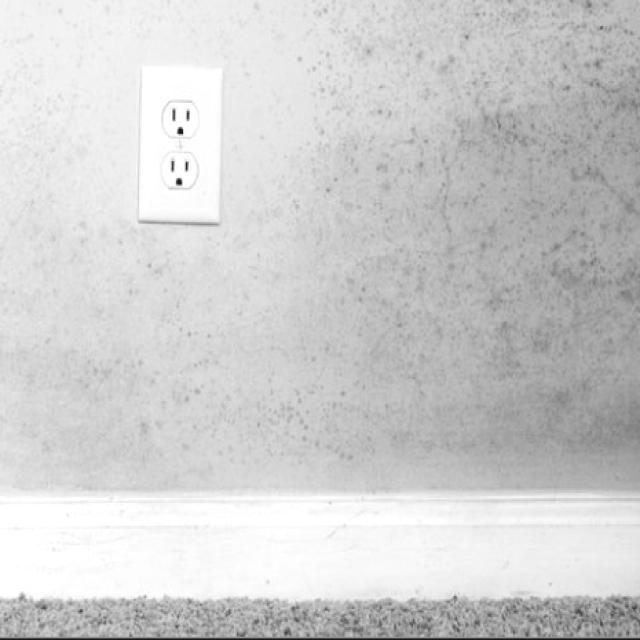stain marks: (278, 0, 639, 485), (56, 220, 278, 487), (2, 0, 133, 447), (130, 0, 278, 62)
